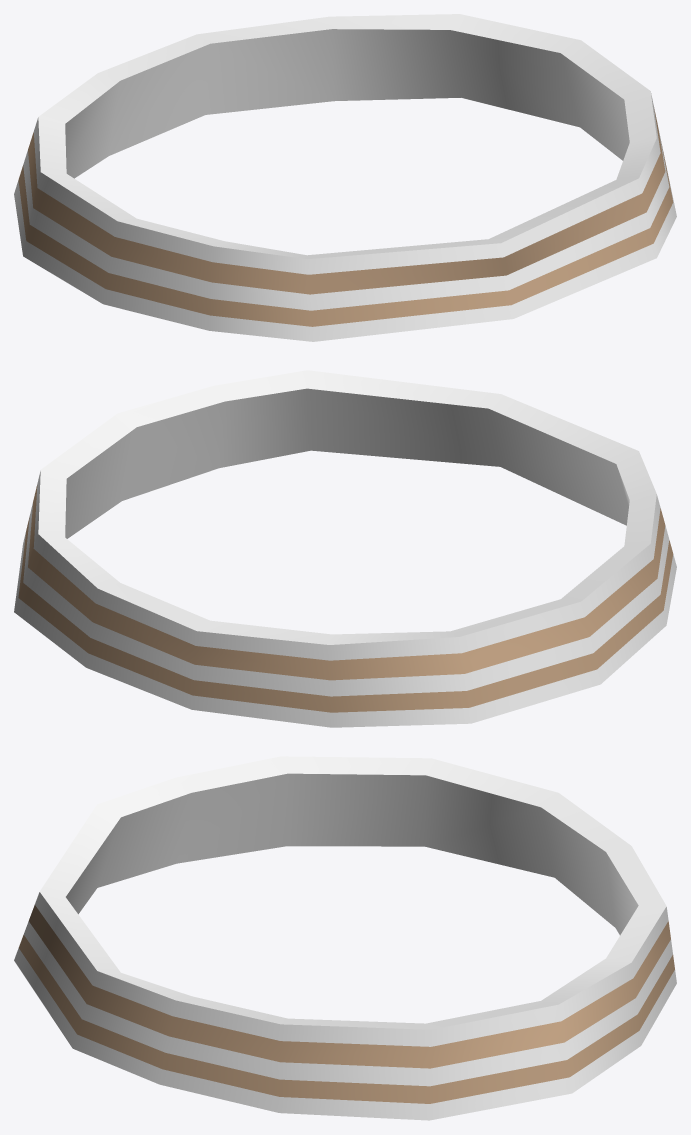
Rendered from item-sweatband.glb.
3 views of the same model, one above another, from view 1: azimuth 30°, elevation 25°; view 2: azimuth 150°, elevation 25°; view 3: azimuth 270°, elevation 25° (orthographic). The views are drawn at different scales.
Size of the model in its own units: 0.3933 by 0.0612 by 0.3797.
1 material, 1 textured.
